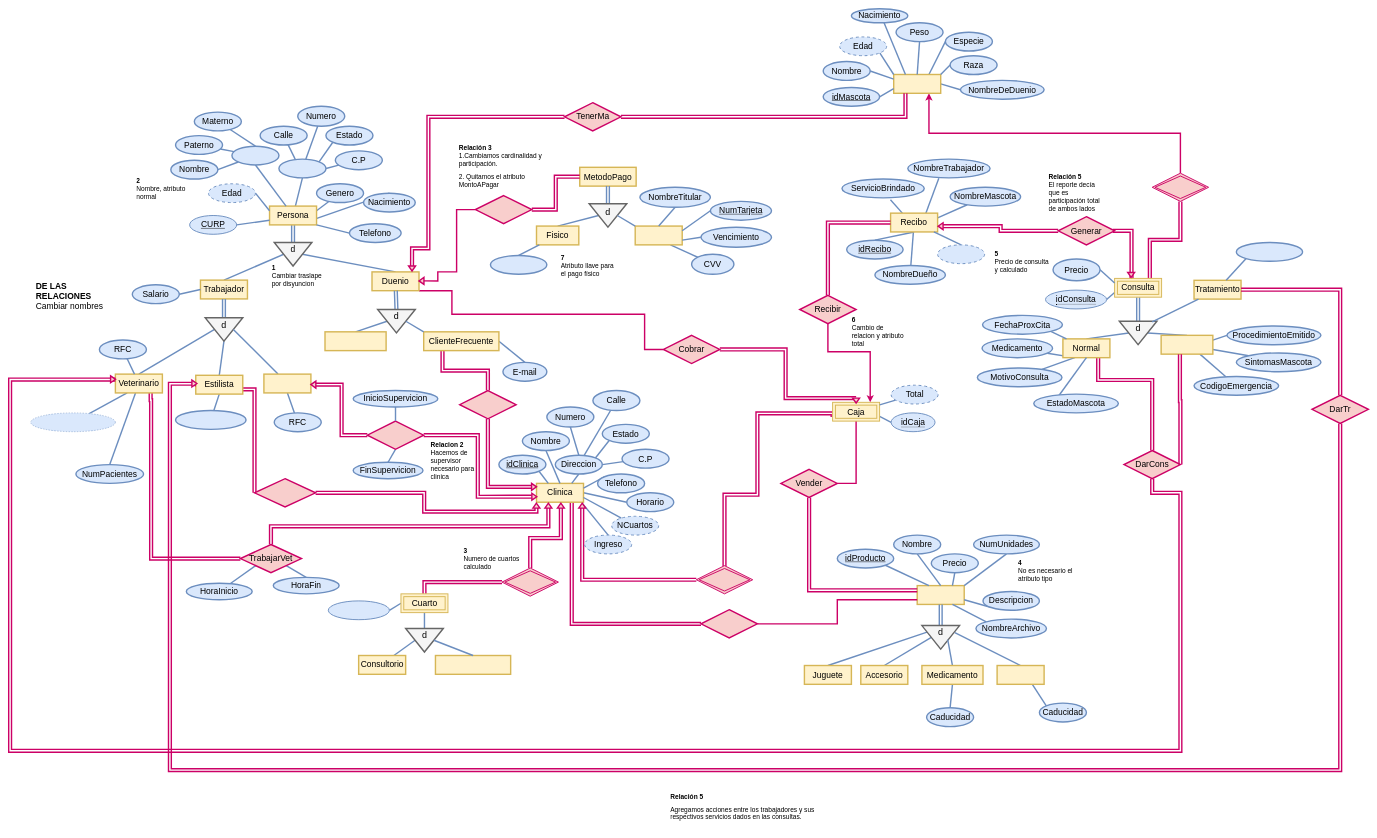
Some shapes in this 1377 by 838 pixel diagram are drawn without their labels. The box of each missing label's shape, as (x1, y1, x2, y2) in pixels:
Asistir: (1152, 172, 1209, 202)
ClienteNormal: (324, 331, 387, 351)
Comida: (996, 665, 1045, 685)
CuartoCuidados: (435, 655, 511, 675)
Dirección: (278, 158, 326, 178)
Emergencia: (1160, 334, 1213, 355)
Felicitar: (459, 390, 517, 419)
idCuarto: (328, 600, 390, 620)
idFisico: (490, 255, 547, 275)
Internet: (634, 225, 683, 245)
Mascota: (893, 74, 941, 94)
NombreC: (231, 145, 279, 165)
NumCertificado: (175, 410, 247, 430)
NumHorasSemana: (30, 412, 115, 432)
PreTotal: (937, 244, 985, 264)
Producto: (916, 585, 965, 605)
ServicioDado: (1235, 242, 1303, 262)
Supervisar: (366, 420, 424, 450)
Supervisor: (263, 373, 311, 393)
Tener: (696, 565, 753, 594)
TenerCu: (501, 567, 559, 596)
TenerPa: (474, 195, 532, 224)
TenerPro: (700, 609, 758, 638)
TrabajarEst: (254, 478, 316, 507)
